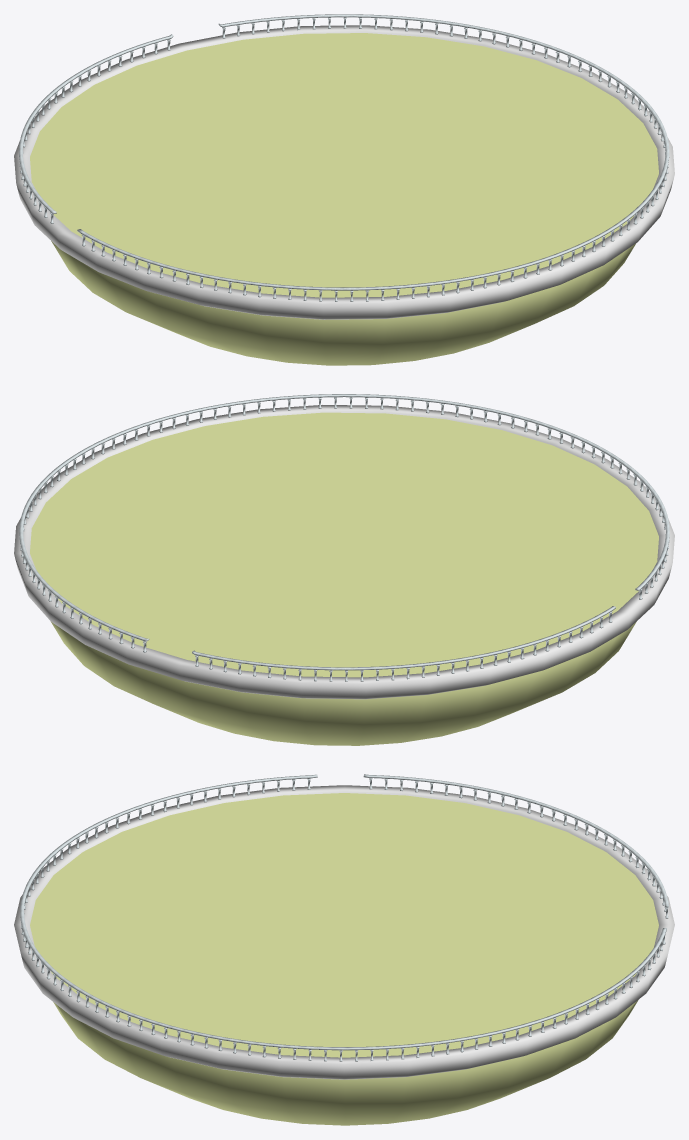
Rendered from LargePlatform_TwoGate_1.fbx.
The picture shows the model from 3 angles, top to bottom: view 1: azimuth 30°, elevation 25°; view 2: azimuth 150°, elevation 25°; view 3: azimuth 270°, elevation 25°; orthographic projection.
Parts seen in each view (by area): view 1: GrassPlatform, Circle, GrassShader, PlatformRailing; view 2: GrassPlatform, Circle, GrassShader, PlatformRailing; view 3: GrassPlatform, Circle, GrassShader, PlatformRailing.
Part boxes in pixels (x1=…): GrassPlatform: x1=30, y1=33, x2=658, y2=297; Circle: x1=14, y1=25, x2=674, y2=319; GrassShader: x1=51, y1=241, x2=635, y2=365; PlatformRailing: x1=19, y1=14, x2=669, y2=301; GrassPlatform: x1=30, y1=412, x2=658, y2=677; Circle: x1=14, y1=405, x2=674, y2=699; GrassShader: x1=50, y1=621, x2=636, y2=745; PlatformRailing: x1=19, y1=394, x2=669, y2=681; GrassPlatform: x1=30, y1=793, x2=658, y2=1057; Circle: x1=14, y1=785, x2=674, y2=1079; GrassShader: x1=53, y1=999, x2=638, y2=1125; PlatformRailing: x1=20, y1=774, x2=668, y2=1061.
Size of the model in its own units: 22500 by 6115 by 22500.
